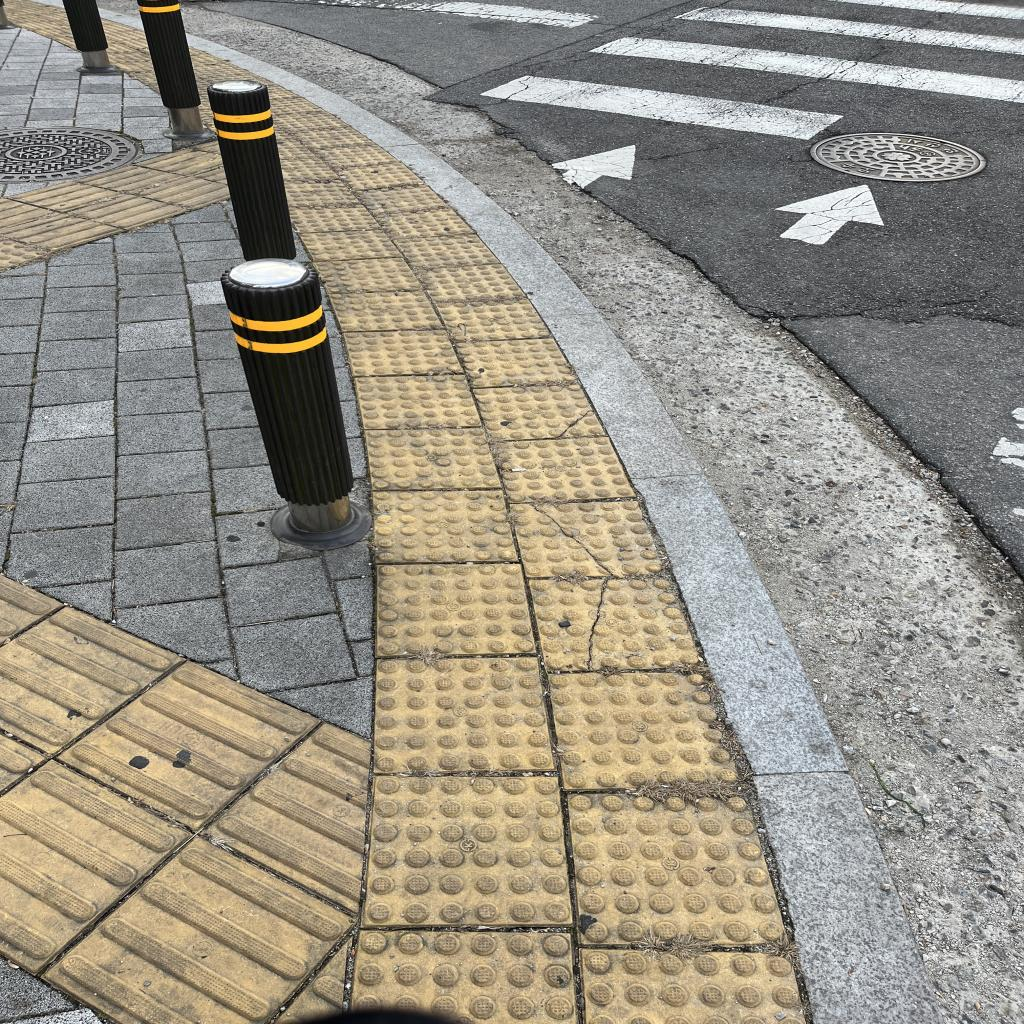Stop block broken: (530, 577, 703, 671), (509, 499, 667, 576)
Stop block normal: (373, 658, 553, 771), (366, 428, 501, 490)
